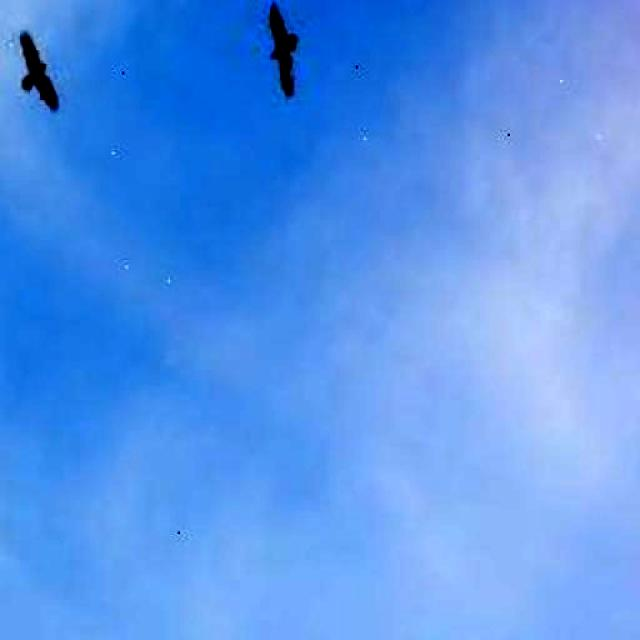airplane: (250, 0, 314, 99), (2, 31, 72, 118)
